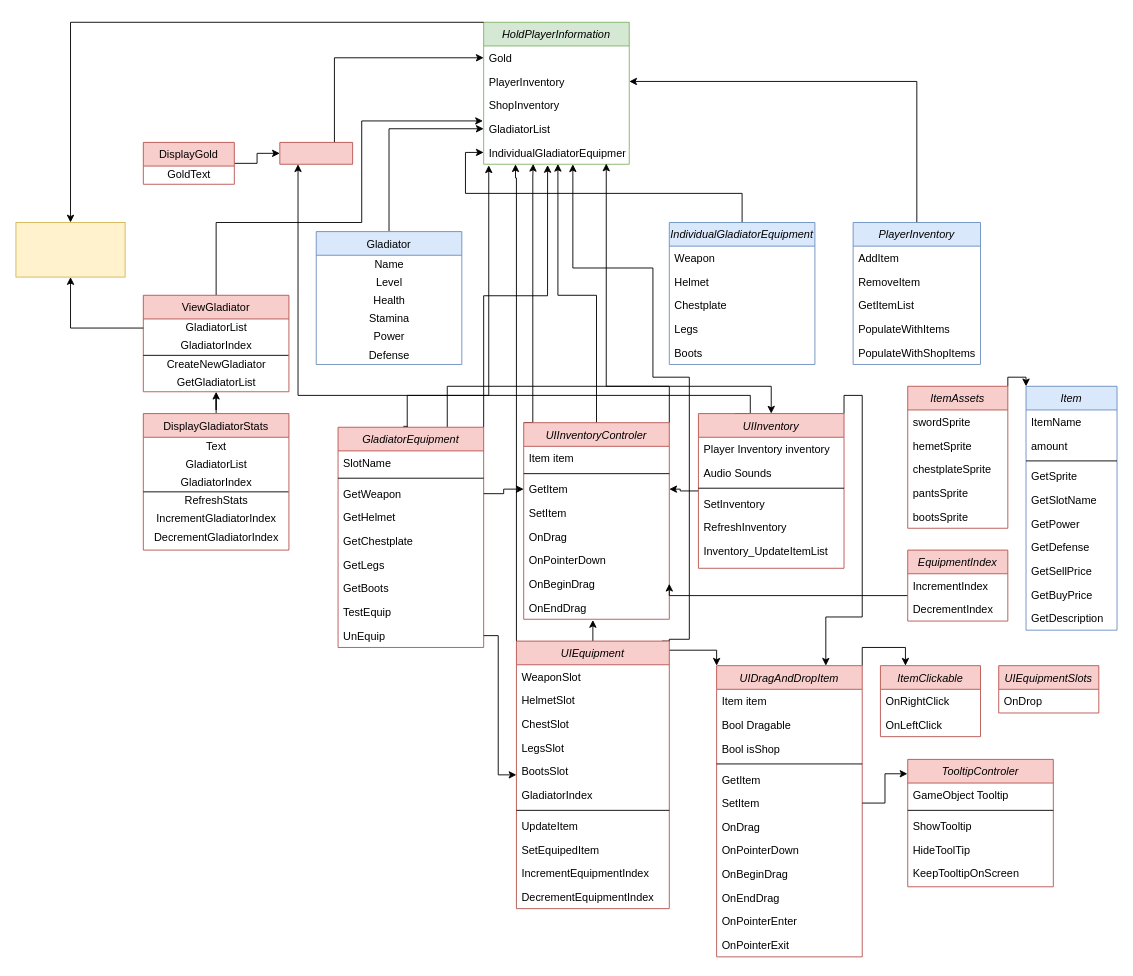
The diagram is 1133 pixels wide and 976 high, and some of its shapes have lost their labels. The shapes that lost their labels are listed below. From the top down, each one's centre as x and y in pixels, then its label:
pixel 316 153: ShopControler
pixel 70 249: Interface with Gladiators
